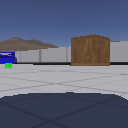blue_basket: (1, 52, 15, 64)
green_cube: (5, 62, 12, 67)
obstacle: (70, 34, 109, 66)
